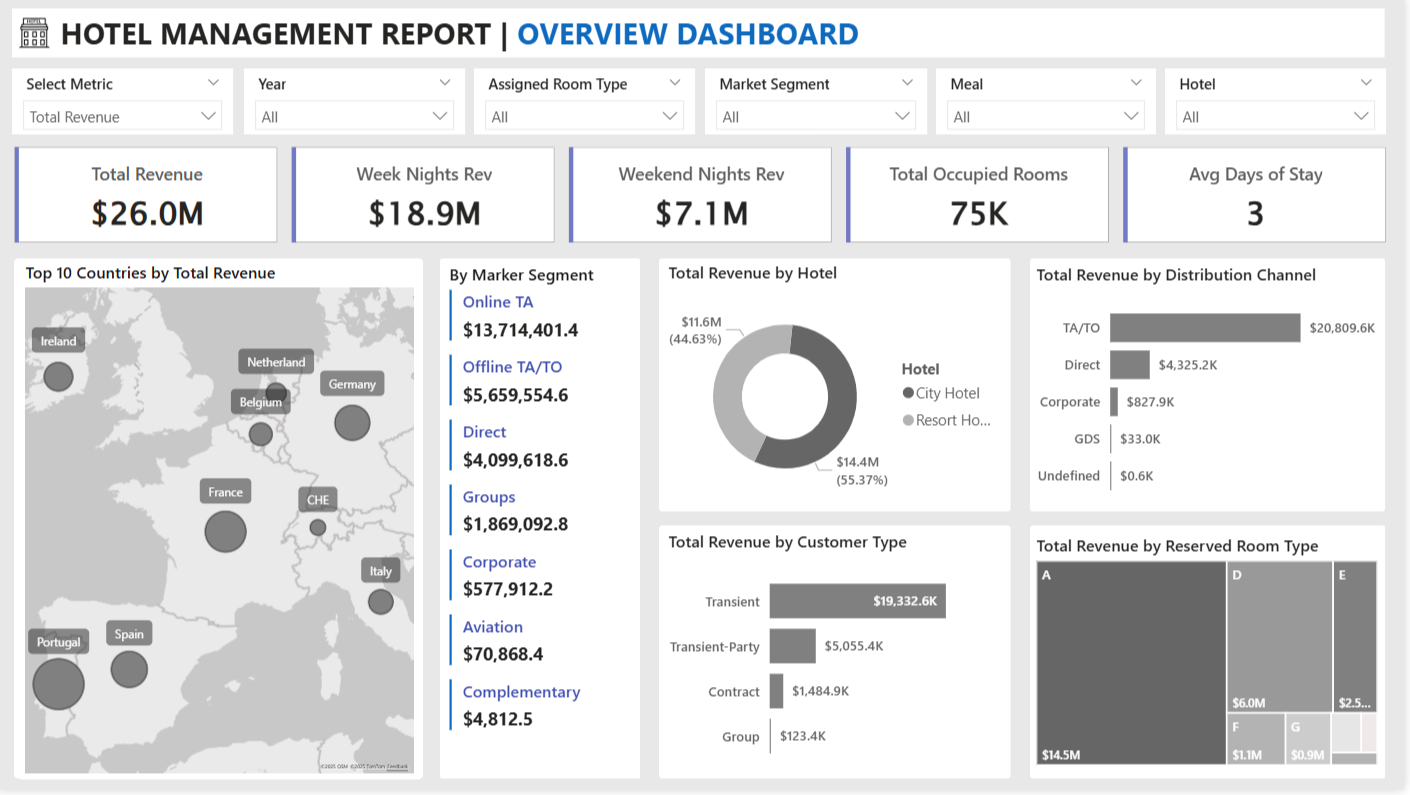

What the dashboard file says about the page in this screenshot:
{"tool":"powerbi","page":{"name":"OVERVIEW DASHBOARD","canvas":[1280,720],"ordinal":0},"visuals":[{"type":"slicer","fields":{"Values":["Date Table.Year"]},"box":[225.2,64.2,200.6,60],"z":0},{"type":"shape","box":[14.5,10,1248,44.7],"z":1000},{"type":"textbox","box":[53.5,9.3,902.3,46.5],"z":2000},{"type":"slicer","fields":{"Values":["hotel data.Assigned Room Type"]},"box":[434.4,64.2,200.6,60],"z":3000},{"type":"slicer","fields":{"Values":["hotel data.Market Segment"]},"box":[644.1,64.7,202,60],"z":4000},{"type":"slicer","fields":{"Values":["hotel data.Meal"]},"box":[854.3,64.2,199.9,60],"z":5000},{"type":"slicer","fields":{"Values":["hotel data.Hotel"]},"box":[1062.7,64.7,200.9,60],"z":6000},{"type":"image","box":[16.7,12.3,36.8,39.1],"z":7000},{"type":"cardVisual","fields":{"Data":["hotel data.Total Revenue","hotel data.Week Nights Rev","hotel data.Weekend Nights Rev","hotel data.Total Occupied Rooms","hotel data.Avg Days of Stay"]},"box":[12,130.5,1261.1,97],"z":10000},{"type":"shape","box":[16.8,237.1,372,473.1],"z":11000},{"type":"azureMap","title":"Top 10 Countries by Total Revenue","fields":{"Category":["hotel data.Country"],"Size":["hotel data.Total Revenue"]},"box":[21.6,239.5,362.9,470.7],"z":12000},{"type":"shape","box":[602.4,237.1,319.8,229.9],"z":13000},{"type":"slicer","fields":{"Values":["Select Metric.Select Metric"]},"box":[14.4,64.7,201.2,59.9],"z":14000},{"type":"shape","box":[602.4,480.2,319.8,229.9],"z":15000},{"type":"shape","box":[403.6,237.1,182,473.1],"z":16000},{"type":"multiRowCard","title":"By Marker Segment","fields":{"Values":["hotel data.Total Revenue","hotel data.Market Segment"]},"box":[407.2,240.7,174.9,473.1],"z":17000},{"type":"barChart","fields":{"Y":["hotel data.Total Revenue"],"Category":["hotel data.Customer Type"]},"box":[606,483.8,313.8,226.3],"z":18000},{"type":"shape","box":[940.1,237.1,323,229.9],"z":19000},{"type":"shape","box":[940.1,480.2,323.4,229.9],"z":20000},{"type":"treemap","fields":{"Values":["hotel data.Total Revenue"],"Group":["hotel data.Reserved Room Type"]},"box":[941.3,487.4,319.8,215.6],"z":21000},{"type":"donutChart","fields":{"Y":["hotel data.Total Revenue"],"Category":["hotel data.Hotel"]},"box":[606,239.5,313.8,227.5],"z":22000},{"type":"barChart","fields":{"Y":["hotel data.Total Revenue"],"Category":["hotel data.Distribution Channel"]},"box":[941.3,240.7,319.8,226.3],"z":23000}]}

Visuals, with their boxes in screenshot pixels (x1, y1, x2, y2), scaled from the page's 1280x720 canvas onto the 1410x795 screenshot:
slicer - Date Table.Year: <box>248,71,469,137</box>
shape: <box>16,11,1391,60</box>
textbox: <box>59,10,1053,62</box>
slicer - hotel data.Assigned Room Type: <box>479,71,699,137</box>
slicer - hotel data.Market Segment: <box>710,71,932,138</box>
slicer - hotel data.Meal: <box>941,71,1161,137</box>
slicer - hotel data.Hotel: <box>1171,71,1392,138</box>
image: <box>18,14,59,57</box>
cardVisual - hotel data.Total Revenue x hotel data.Week Nights Rev: <box>13,144,1402,251</box>
shape: <box>19,262,428,784</box>
"Top 10 Countries by Total Revenue" azureMap: <box>24,264,424,784</box>
shape: <box>664,262,1016,516</box>
slicer - Select Metric.Select Metric: <box>16,71,237,138</box>
shape: <box>664,530,1016,784</box>
shape: <box>445,262,645,784</box>
"By Marker Segment" multiRowCard: <box>449,266,641,788</box>
barChart - hotel data.Total Revenue x hotel data.Customer Type: <box>668,534,1013,784</box>
shape: <box>1036,262,1391,516</box>
shape: <box>1036,530,1392,784</box>
treemap - hotel data.Total Revenue x hotel data.Reserved Room Type: <box>1037,538,1389,776</box>
donutChart - hotel data.Total Revenue x hotel data.Hotel: <box>668,264,1013,516</box>
barChart - hotel data.Total Revenue x hotel data.Distribution Channel: <box>1037,266,1389,516</box>
